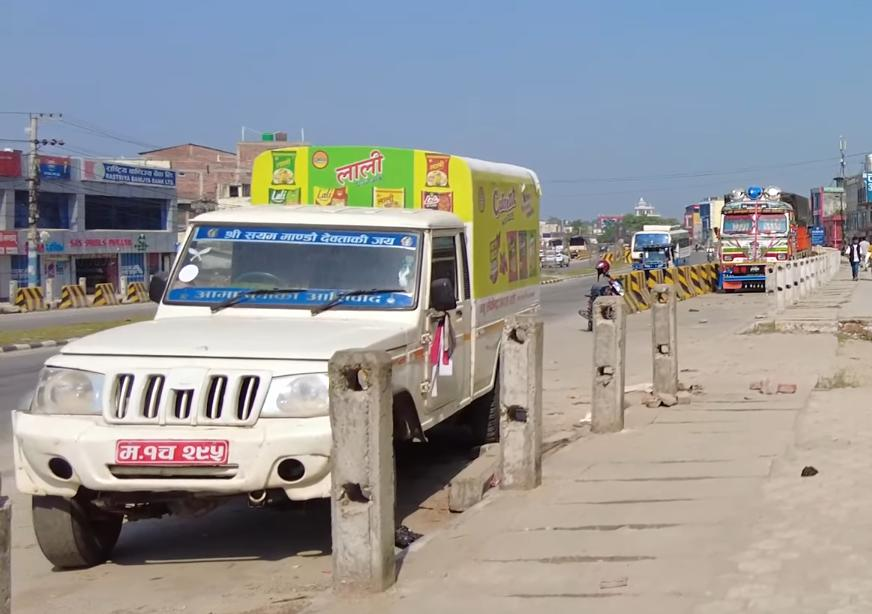bike: (572, 249, 623, 332)
bus: (623, 213, 693, 285)
transport_vehicle: (15, 115, 551, 568)
truck: (712, 179, 822, 298)
